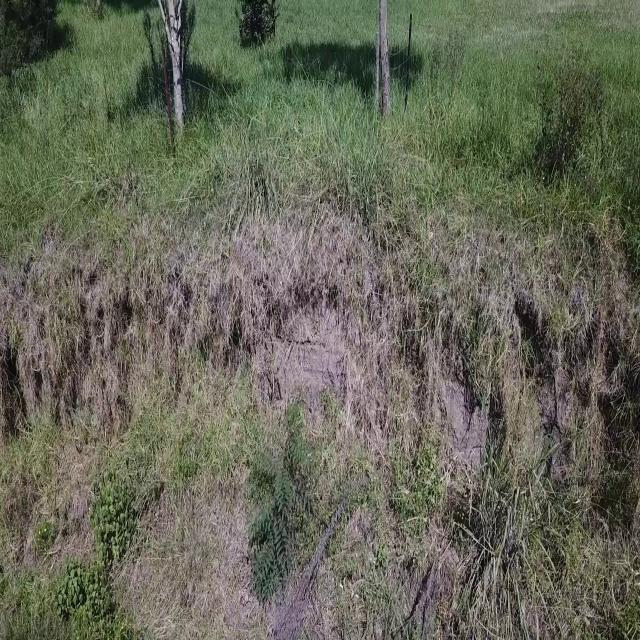Mysore-Thorn-Weed: (247, 400, 310, 606)
